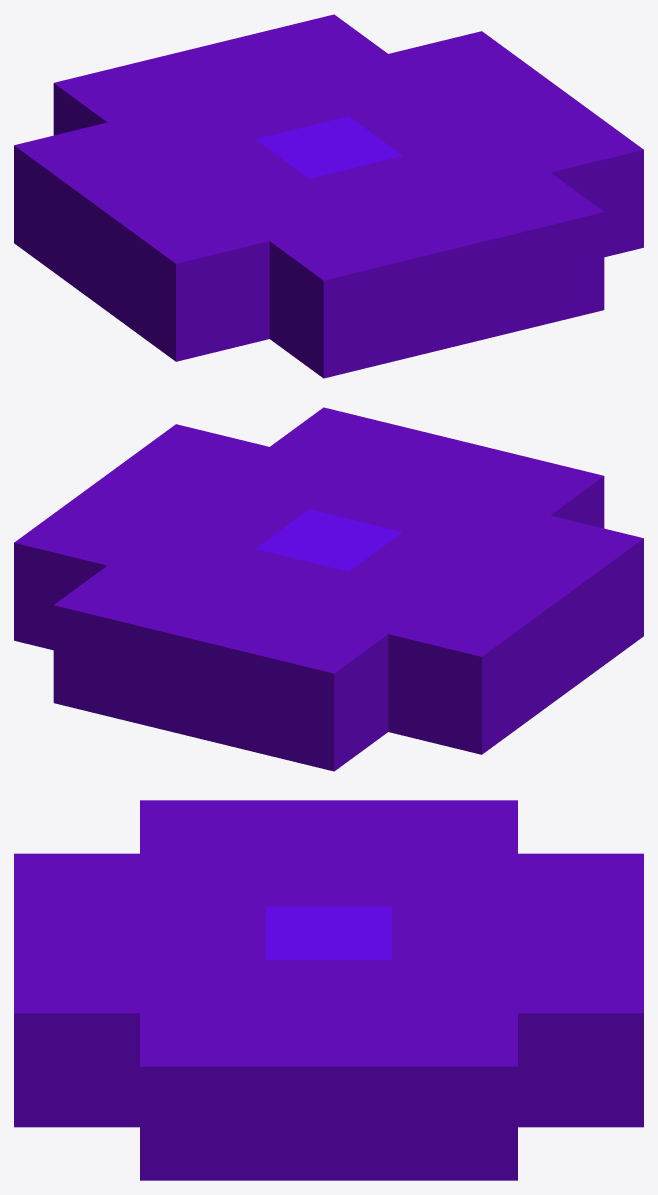
File: Cushion.fbx
3 renders of one model, top to bottom at view 1: azimuth 30°, elevation 25°; view 2: azimuth 150°, elevation 25°; view 3: azimuth 270°, elevation 25°, orthographic. The views are drawn at different scales.
Parts seen in each view (by area): view 1: Cushion; view 2: Cushion; view 3: Cushion.
Part boxes in pixels (bbox=[...]): Cushion: bbox=[14, 14, 643, 378]; Cushion: bbox=[14, 407, 643, 771]; Cushion: bbox=[14, 800, 643, 1180].
Bounding box in the file's own units: 5.73 × 1.15 × 5.73.
